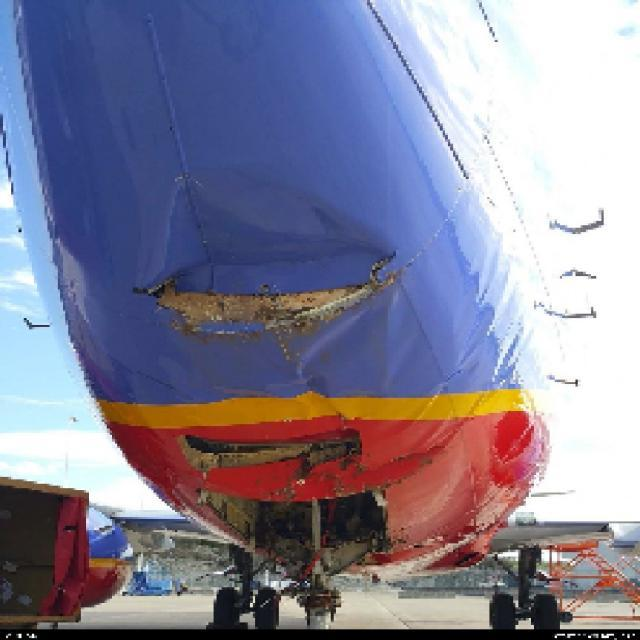crack: (366, 253, 398, 275)
dent: (161, 174, 397, 277), (305, 307, 391, 381)
